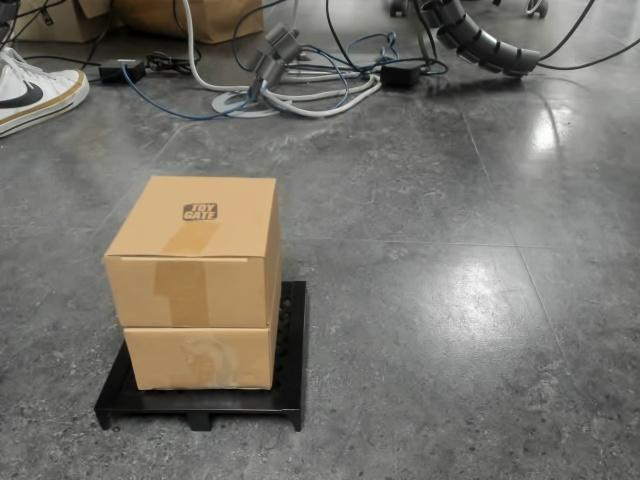box: (91, 174, 313, 436)
